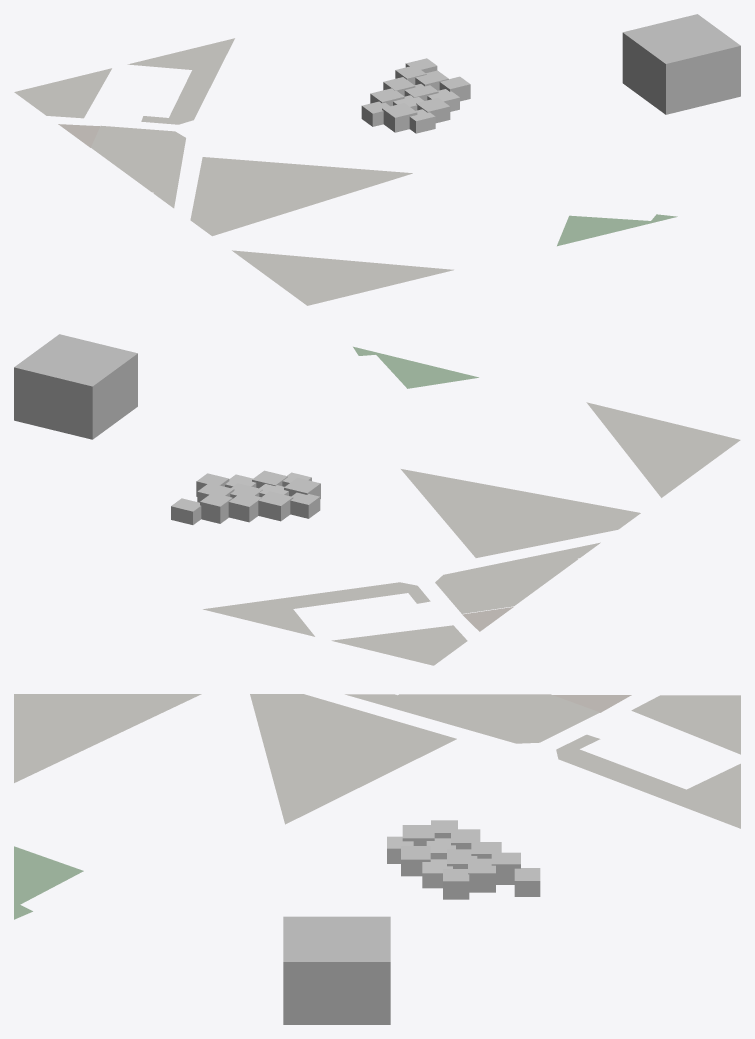
The model's file is 106_89_mid.glb.
3 views of the same model, one above another, from view 1: azimuth 30°, elevation 25°; view 2: azimuth 150°, elevation 25°; view 3: azimuth 270°, elevation 25° (orthographic). The views are drawn at different scales.
Size of the model in its own units: 534 by 47.8 by 500.
